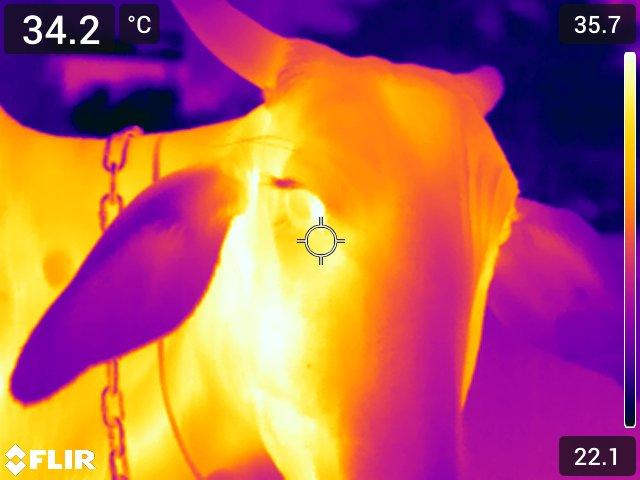ear: (13, 159, 242, 404)
eyes: (265, 169, 338, 244)
